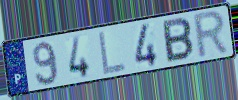4: (66, 33, 93, 80), (133, 21, 159, 69)
9: (31, 40, 60, 86)
B: (161, 16, 195, 65)
L: (97, 29, 127, 77)
R: (193, 8, 231, 61)
